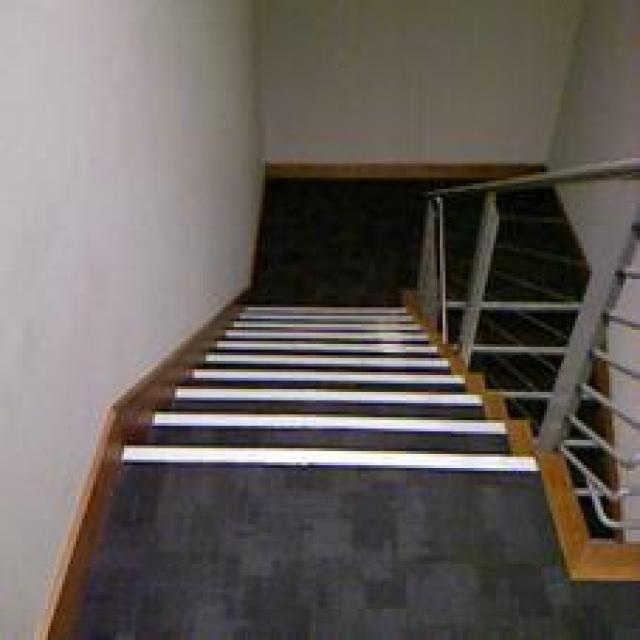downstair: (83, 272, 551, 494)
